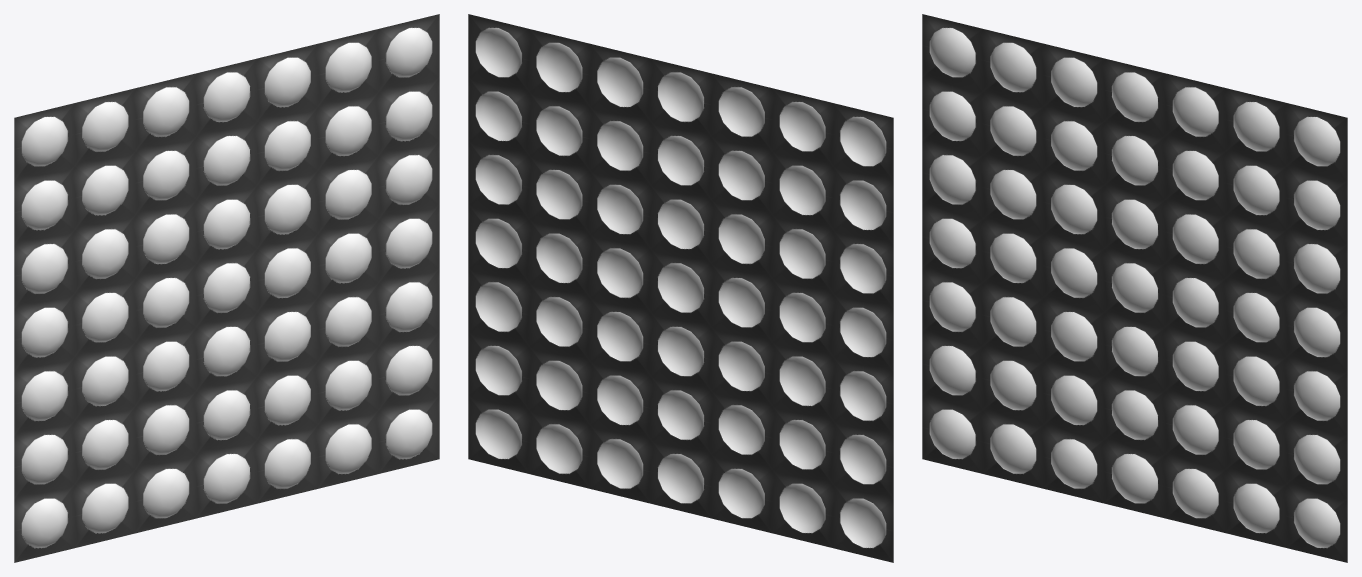
The model's file is PanelLight04.FBX.
3 views of the same model, side by side, from view 1: azimuth 30°, elevation 25°; view 2: azimuth 150°, elevation 25°; view 3: azimuth 330°, elevation 25° (orthographic).
Parts seen in each view (by area): view 1: PanelLight04; view 2: PanelLight04; view 3: PanelLight04.
Boxes of the visible parts, x1,y1,x2,y2 form: PanelLight04: (14, 14, 439, 562); PanelLight04: (468, 14, 893, 562); PanelLight04: (922, 14, 1347, 562).
Size of the model in its own units: 350 by 350 by 8.46.
